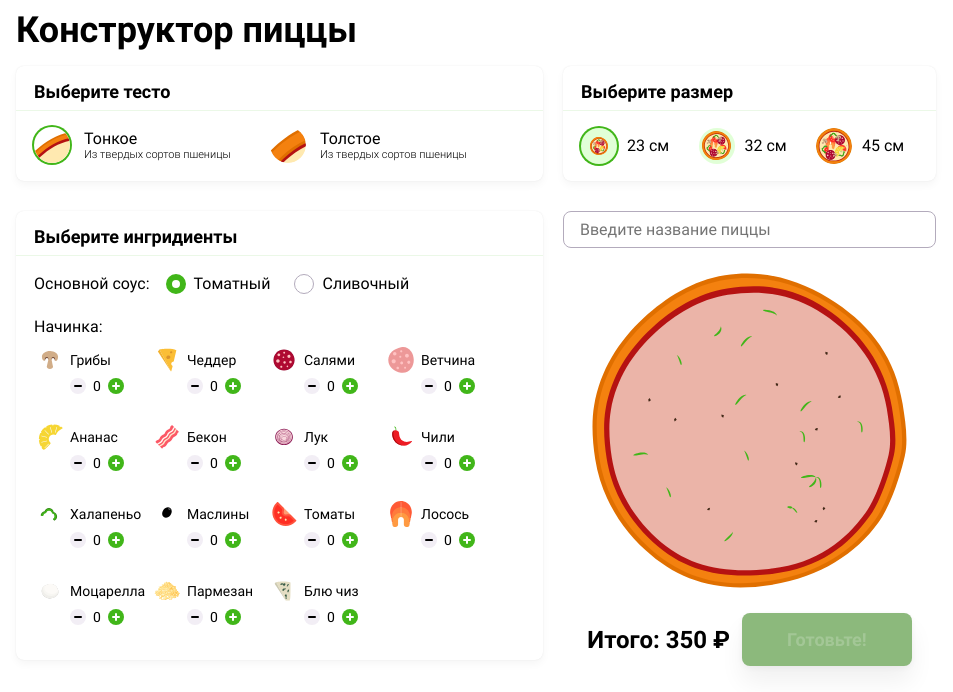
Test: BuilderView.vue › enable to-cart button if ingredients selected and name typed
This screenshot has width=953, height=692.
Type "n" into the field with test id "builder-name" at coordinates (750, 230), box x1=563 y1=211 x2=936 y2=248
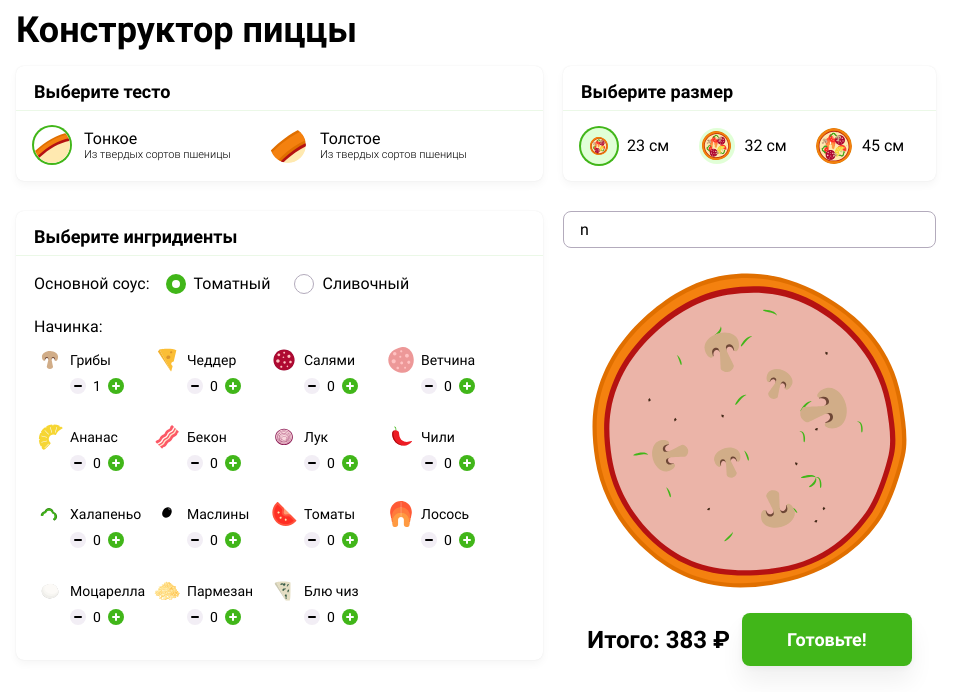
Check: the button with test id "builder-to-cart" is enabled, box x1=742 y1=613 x2=912 y2=666
